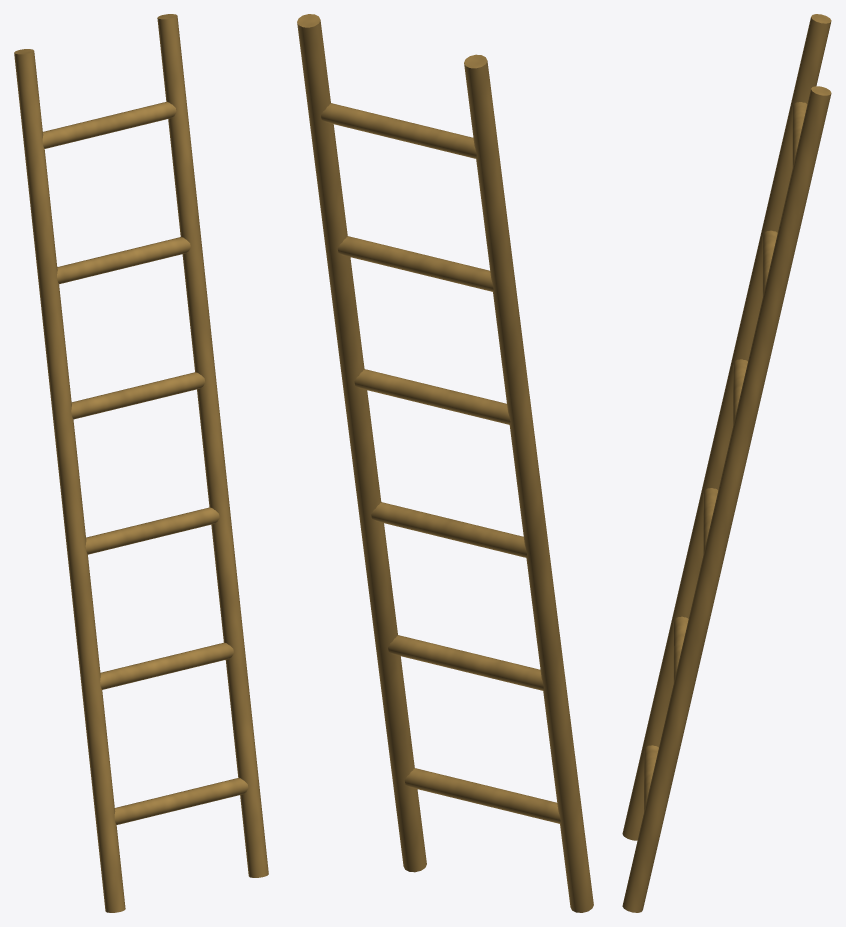
File: Furn_Ladder.fbx
The picture shows the model from 3 angles, left to right: view 1: azimuth 30°, elevation 25°; view 2: azimuth 150°, elevation 25°; view 3: azimuth 270°, elevation 25°; orthographic projection. The views are drawn at different scales.
Parts seen in each view (by area): view 1: Furn_Ladder_Mesh; view 2: Furn_Ladder_Mesh; view 3: Furn_Ladder_Mesh.
Part boxes in pixels (bbox=[...]): Furn_Ladder_Mesh: bbox=[14, 14, 268, 912]; Furn_Ladder_Mesh: bbox=[297, 14, 593, 912]; Furn_Ladder_Mesh: bbox=[622, 14, 831, 912].
Size of the model in its own units: 0.55 by 2.6 by 0.6.
Materials: 1 (1 with a texture image).
